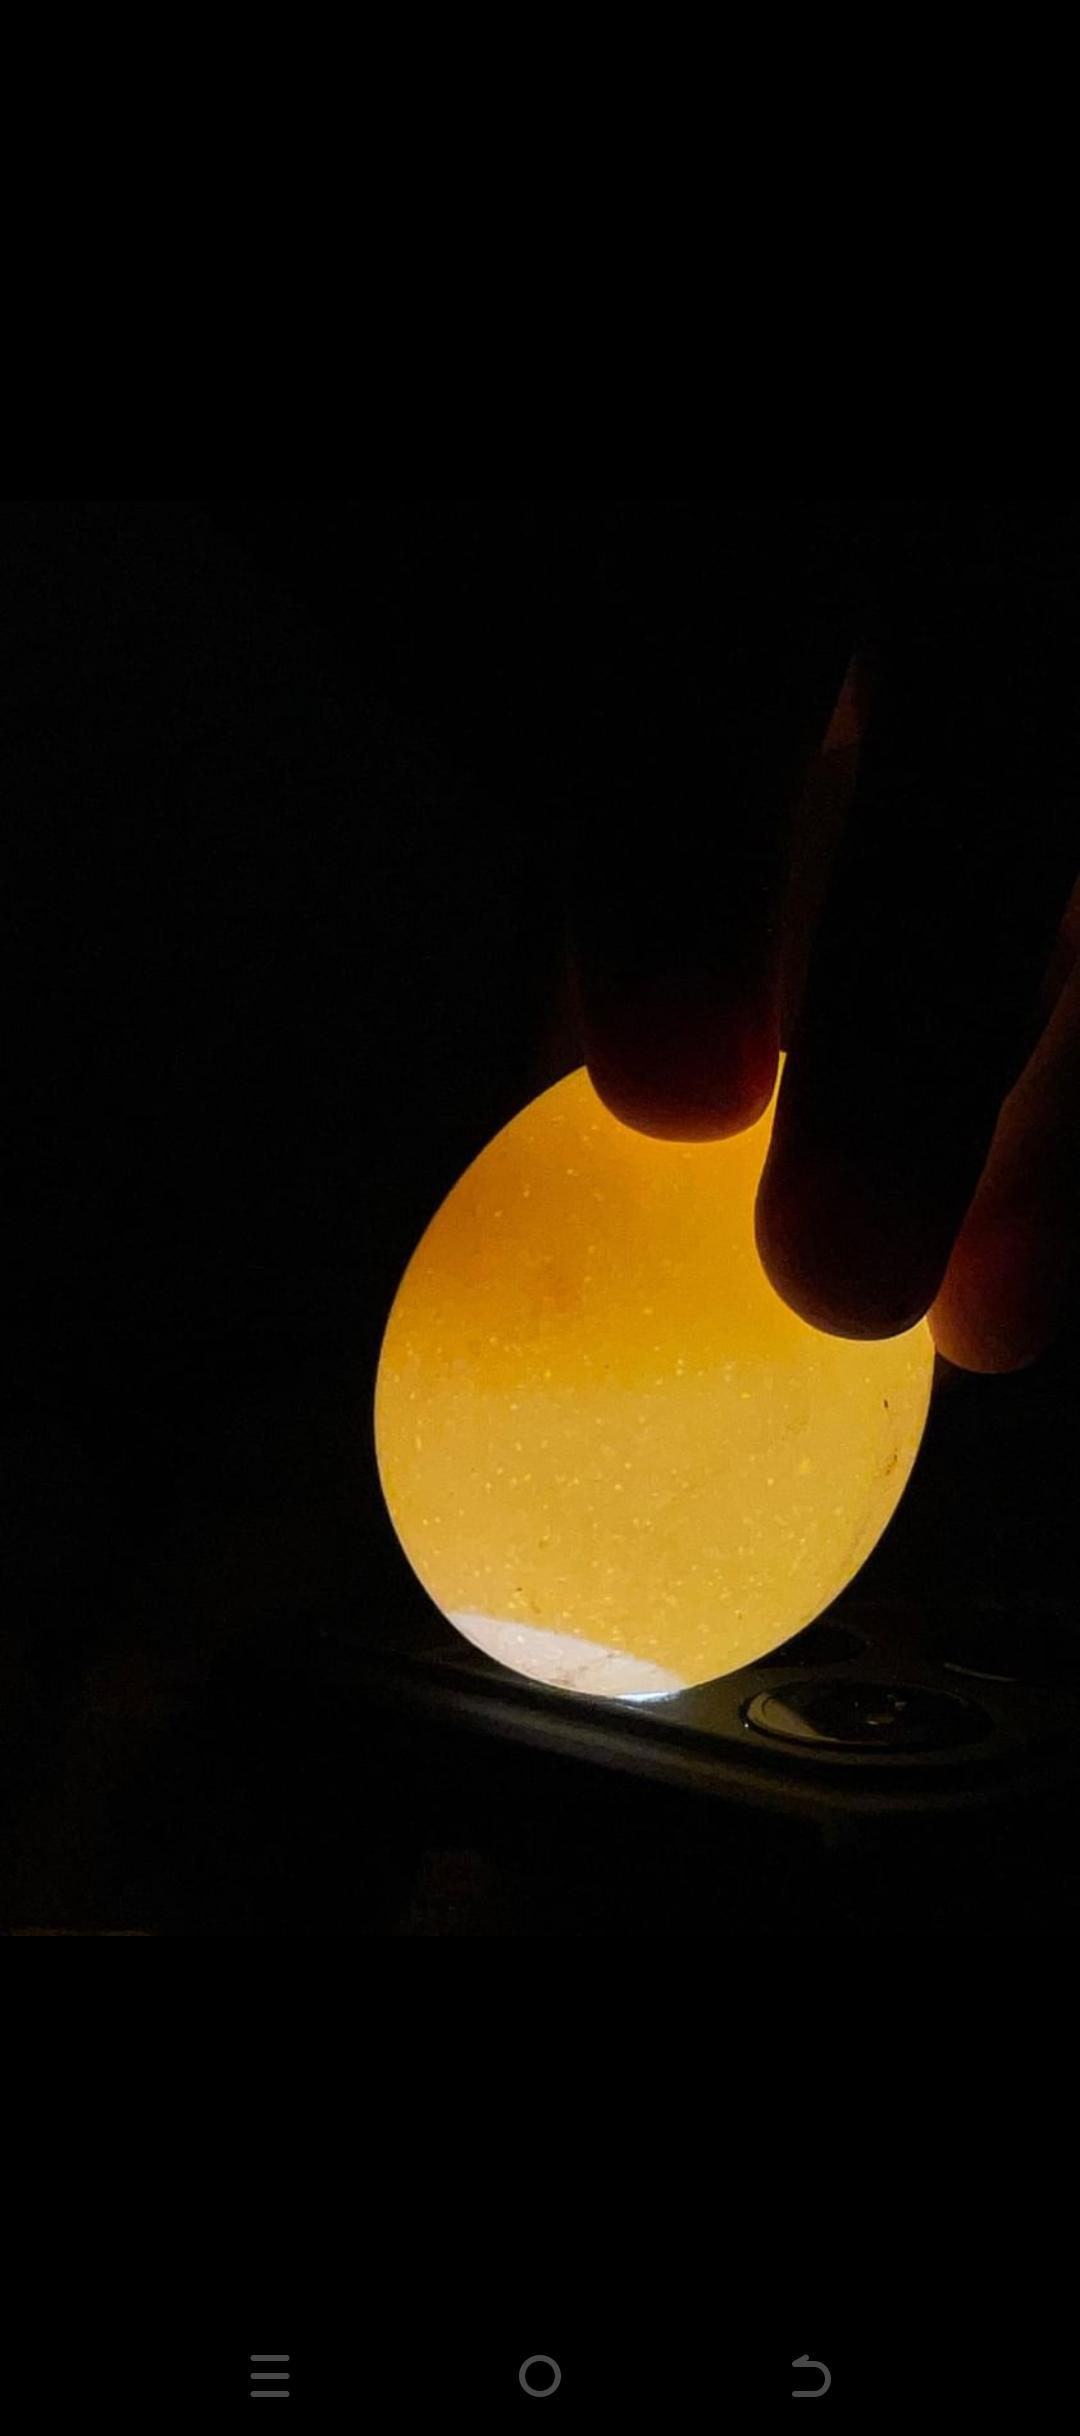AA - Premium: (364, 1007, 940, 1731)
